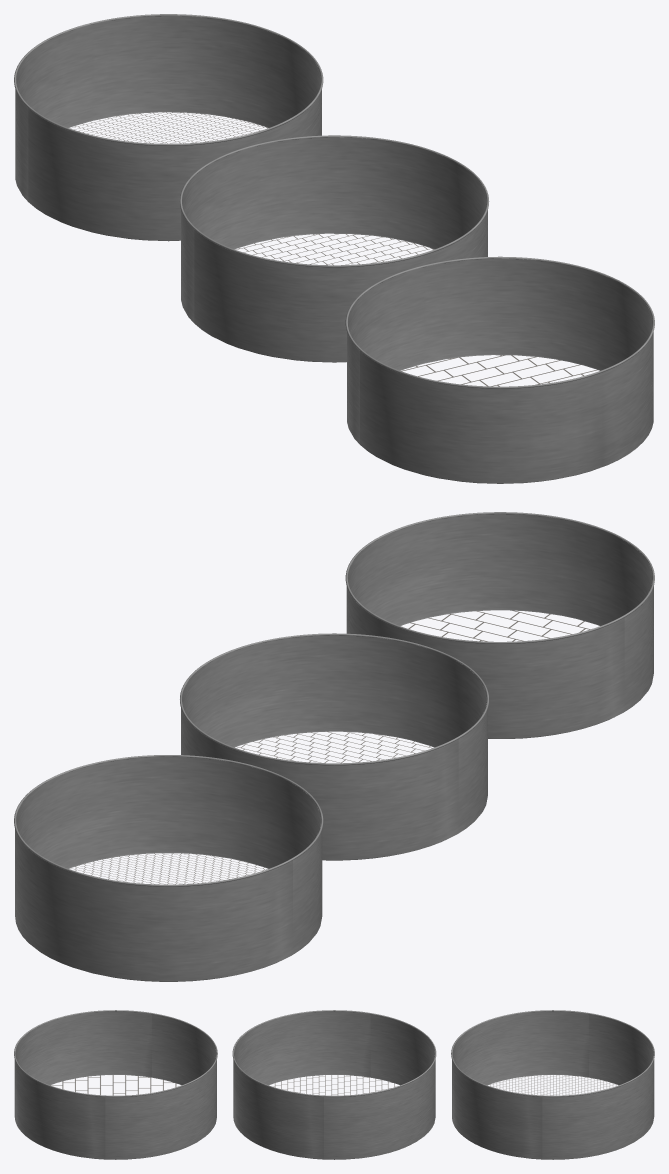
Rendered from Strainers.gltf.
The picture shows the model from 3 angles, top to bottom: view 1: azimuth 30°, elevation 25°; view 2: azimuth 150°, elevation 25°; view 3: azimuth 270°, elevation 25°; orthographic projection. The views are drawn at different scales.
Visible parts, largest first — view 1: Strainer3, Strainer3.001, Strainer3.002; view 2: Strainer3.001, Strainer3.002, Strainer3; view 3: Strainer3.001, Strainer3.002, Strainer3.
Part boxes in pixels (left/top/right/bottom): Strainer3: left=345, top=256, right=654, bottom=483; Strainer3.001: left=14, top=14, right=323, bottom=241; Strainer3.002: left=179, top=135, right=489, bottom=362; Strainer3.001: left=14, top=755, right=323, bottom=981; Strainer3.002: left=180, top=633, right=488, bottom=860; Strainer3: left=345, top=512, right=654, bottom=738; Strainer3.001: left=451, top=1010, right=654, bottom=1159; Strainer3.002: left=232, top=1010, right=436, bottom=1159; Strainer3: left=14, top=1010, right=217, bottom=1159.
Size of the model in its own units: 4.66 by 1.62 by 14.66.
Materials: 4 (4 with a texture image).
